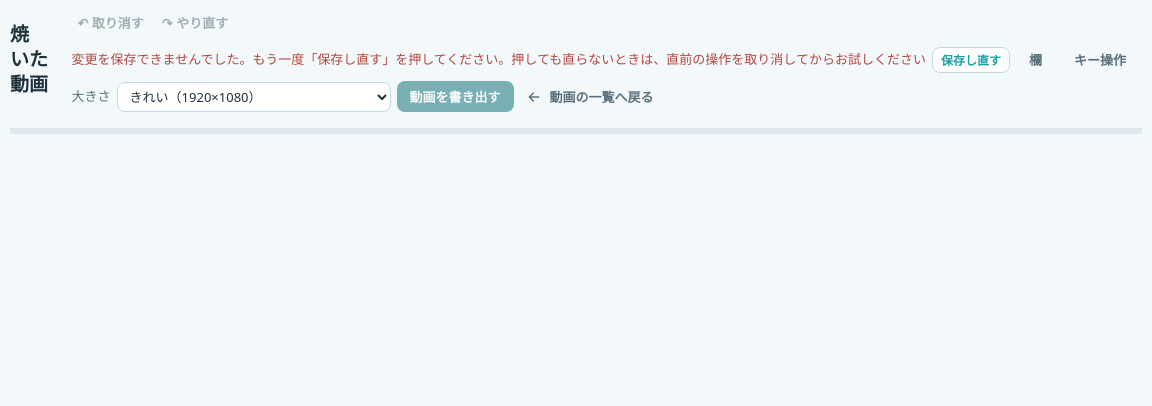
TimelineProjectScreen: 自動保存の結果を伝える（#693） › 確認を出したまま保存できたら、確認は消える（事実と食い違う文を残さない）
Click the button "動画の一覧へ戻る" at (590, 96), box x1=520 y1=81 x2=660 y2=112
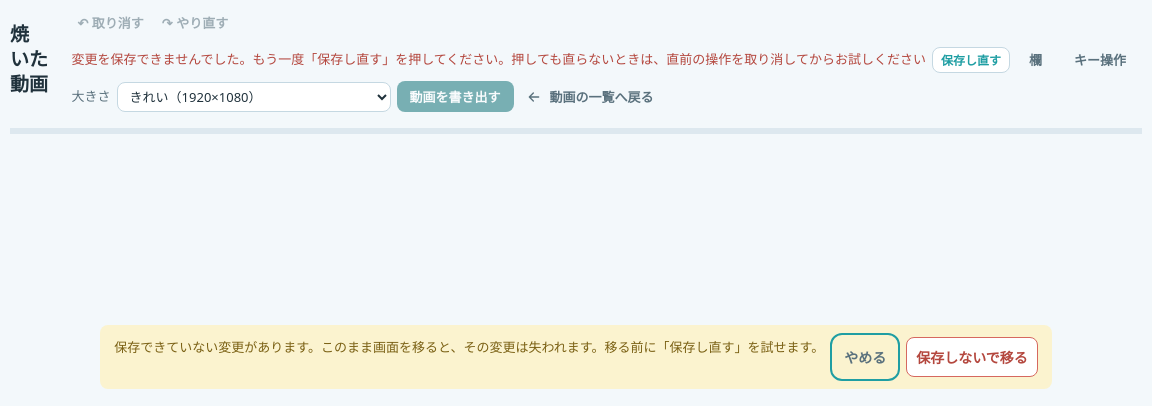
Expected: the text "保存できていない変更があります。このまま画面を移ると、その変更は失われます。移る前に「保存し直す」を試せます。" is shown, x1=114 y1=337 x2=824 y2=358
